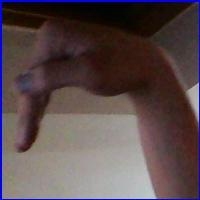A: (14, 20, 170, 162)
